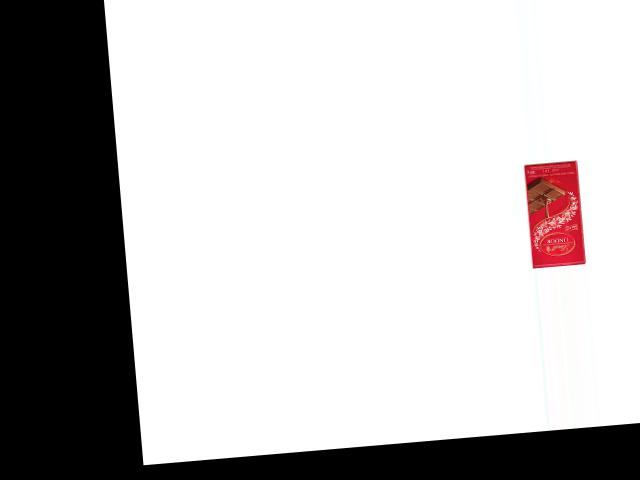chocolate: (518, 161, 587, 268)
